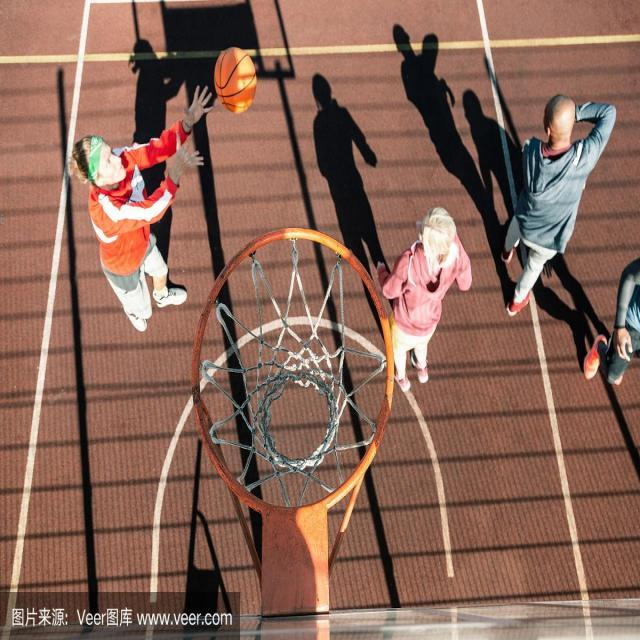rim: (216, 46, 256, 112)
